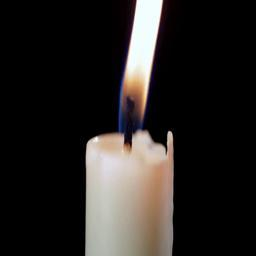fire: (119, 0, 164, 134)
